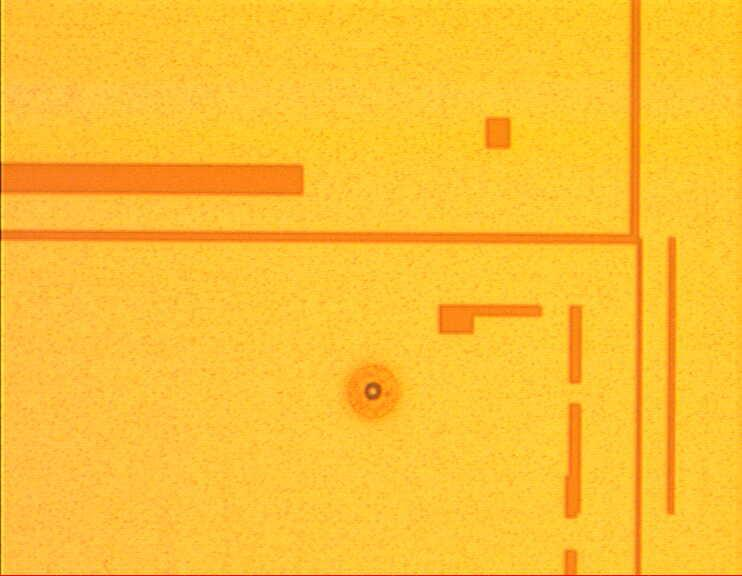PIQ PARTICLE: (340, 358, 408, 426)
